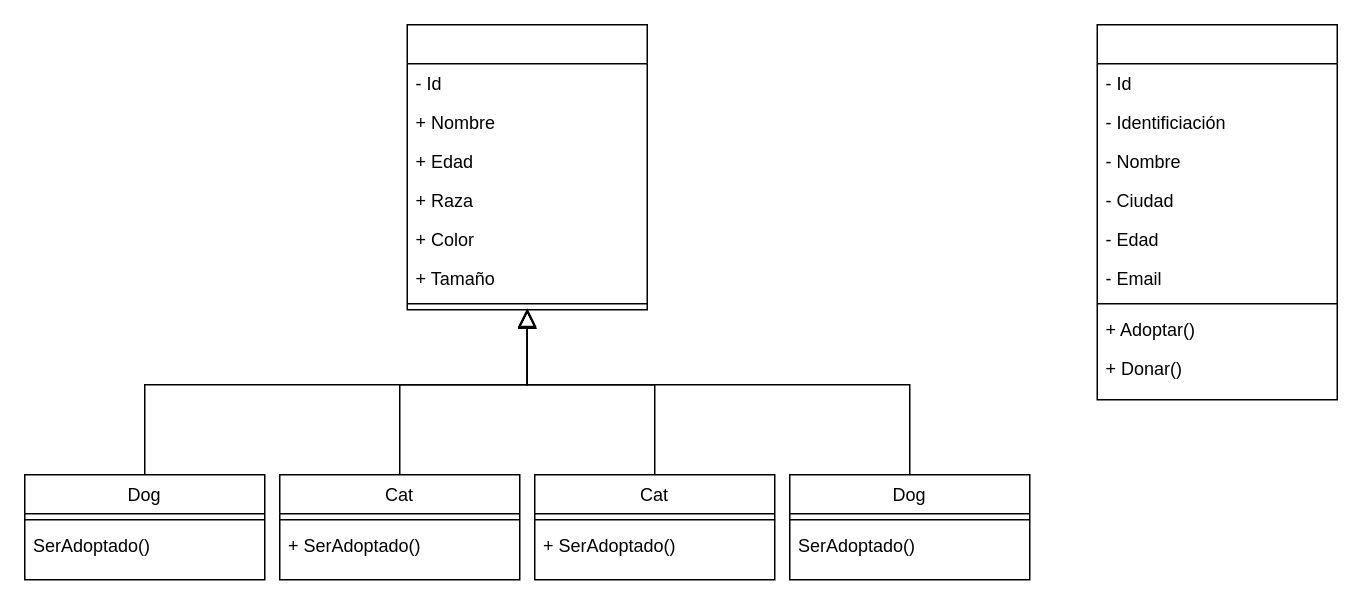
This 1362x605 diagram has some shape labels left out. The box of each missing label's shape, as (x1, y1, x2, y2) in pixels:
Person: (1096, 23, 1337, 400)
Pets: (406, 23, 647, 310)
